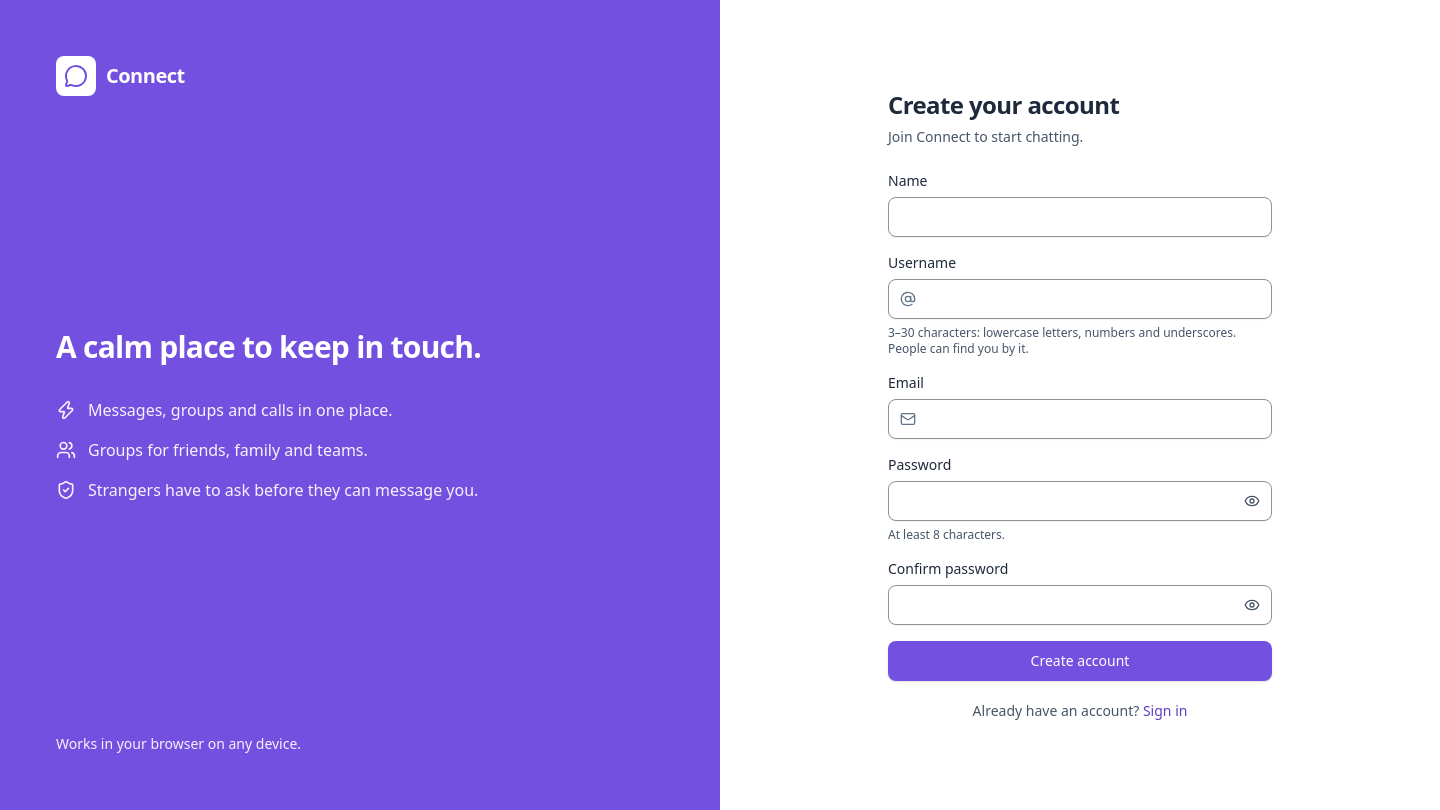
RegisterPage › validates username rules and password confirmation
Type "Ada Lovelace" into the field labelled "Name". click: (1080, 217)
box: x1=888 y1=197 x2=1272 y2=237
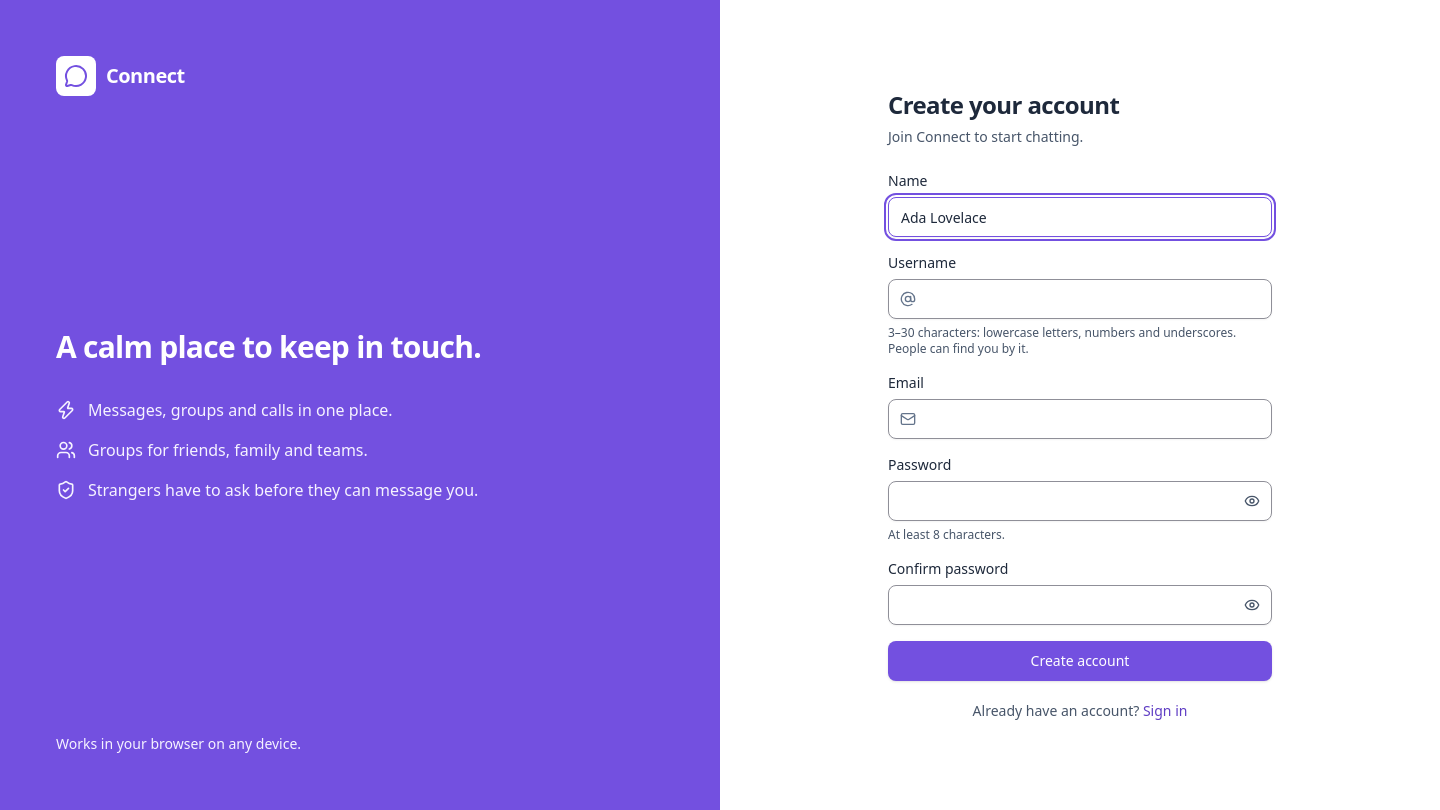
Type "Ada-L" into the field labelled "Username". click: (1080, 299)
box: x1=888 y1=279 x2=1272 y2=319
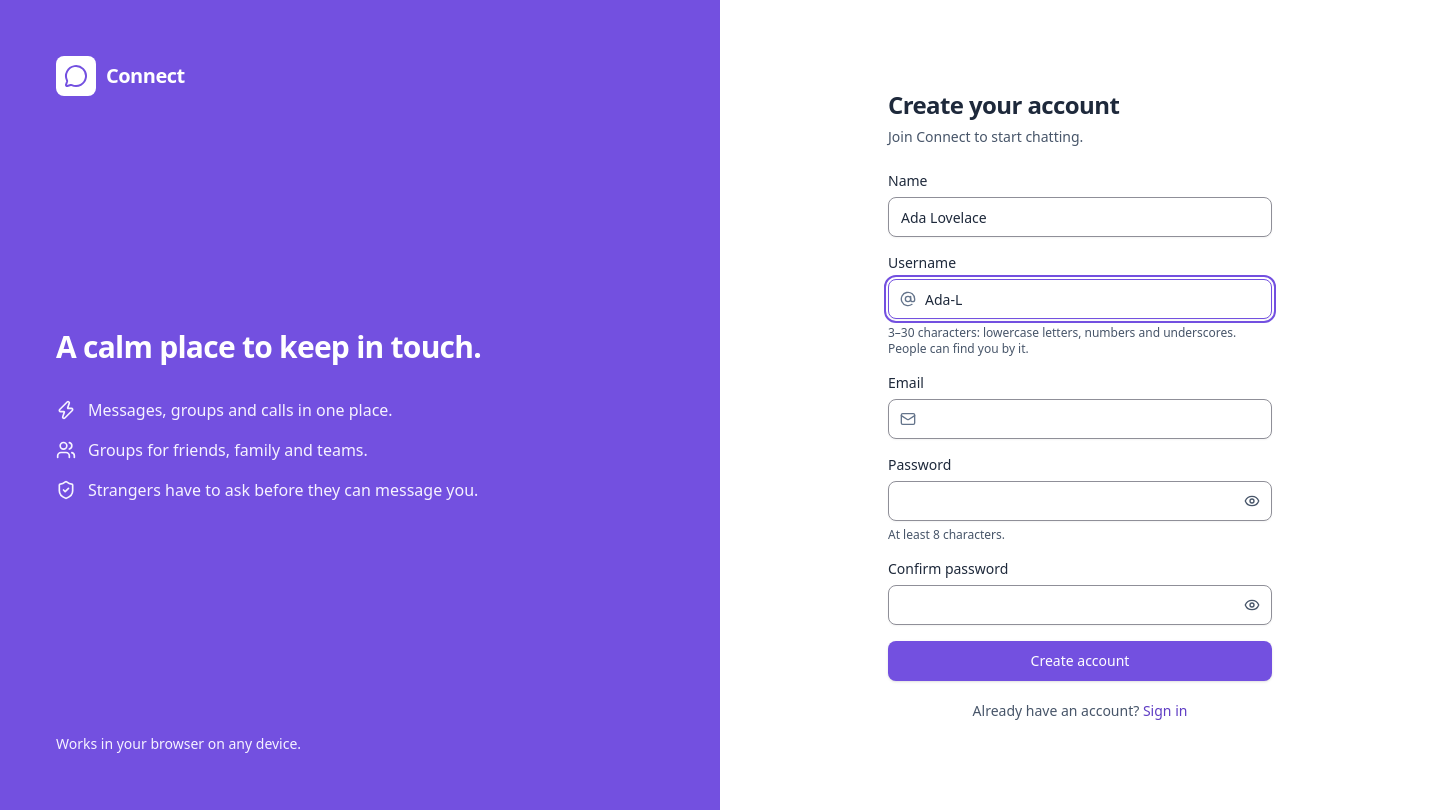
Type "ada@example.com" into the field labelled "Email". click: (1080, 419)
box: x1=888 y1=399 x2=1272 y2=439
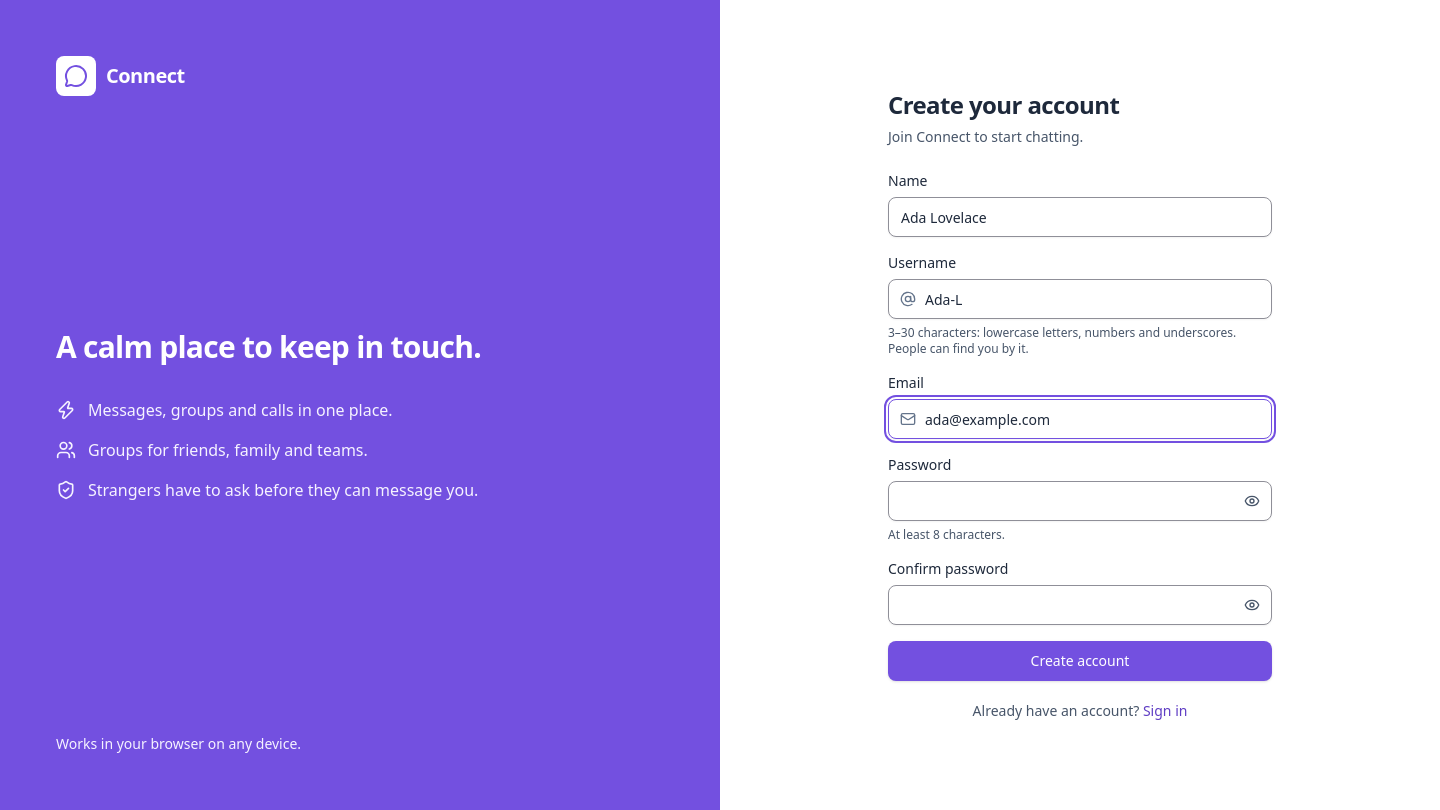
Type "long enough password" into the password field labelled "Password". click: (1080, 501)
box: x1=888 y1=481 x2=1272 y2=521
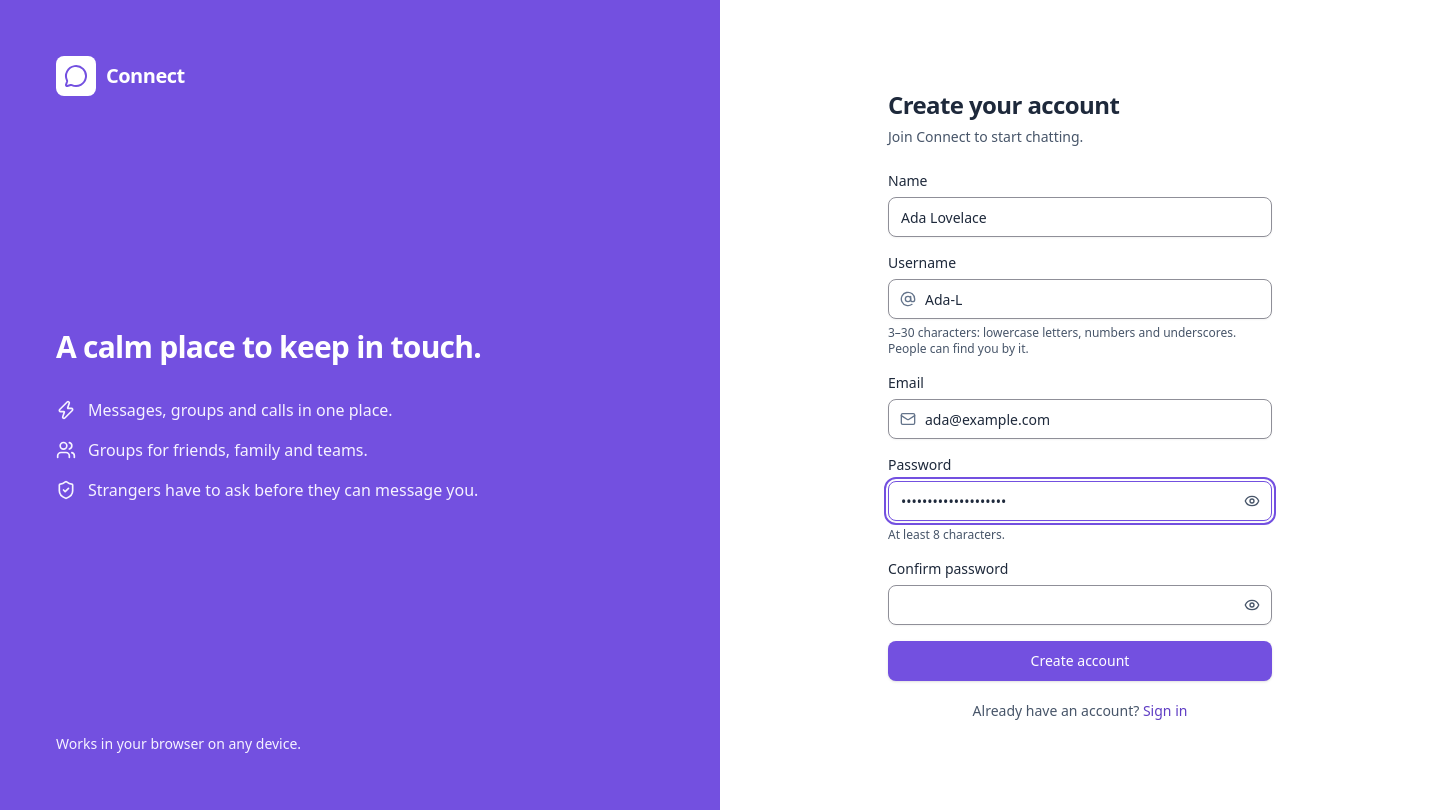
Type "different password" into the password field labelled "Confirm password". click: (1080, 605)
box: x1=888 y1=585 x2=1272 y2=625
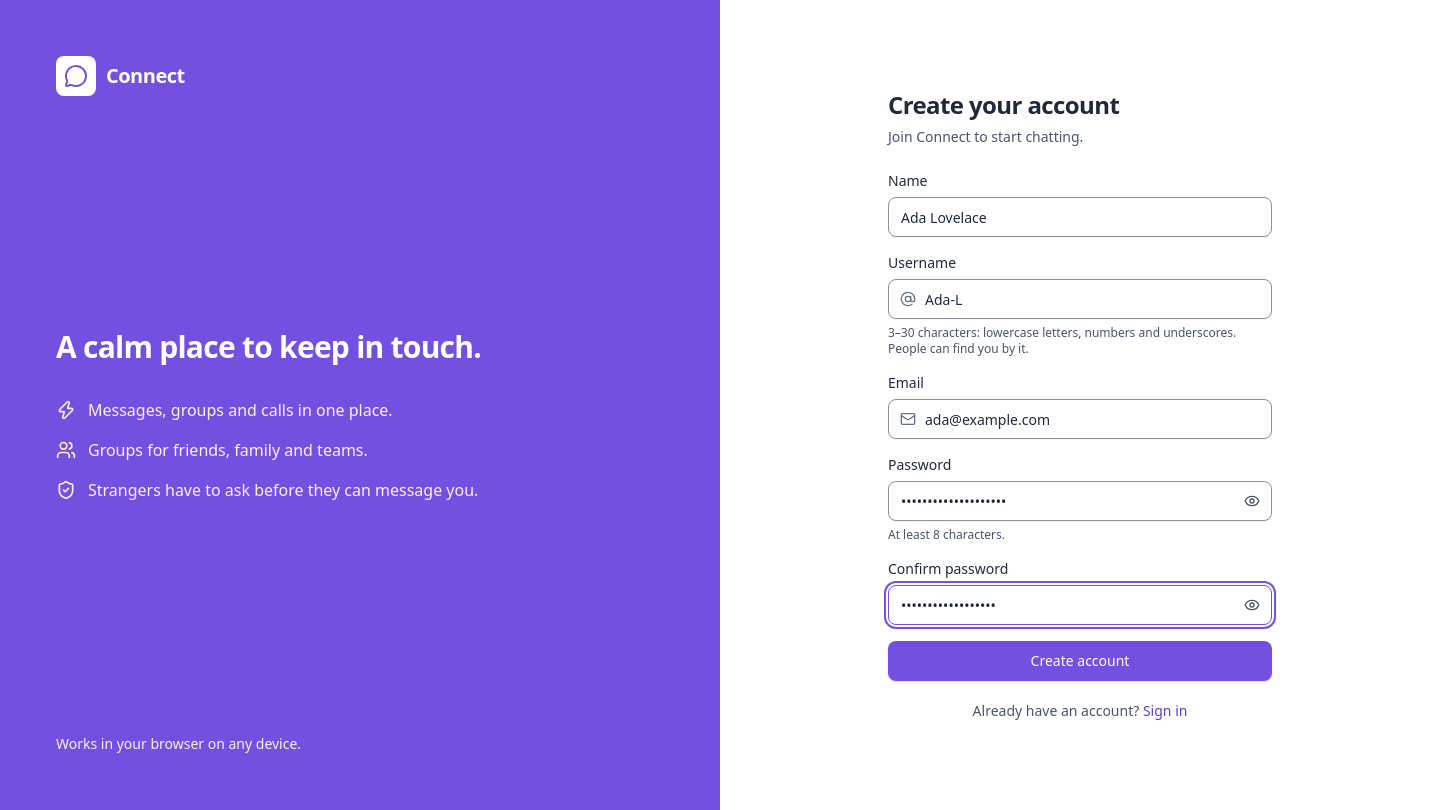
Click the button "Create account". click: (1080, 661)
box: x1=888 y1=641 x2=1272 y2=681
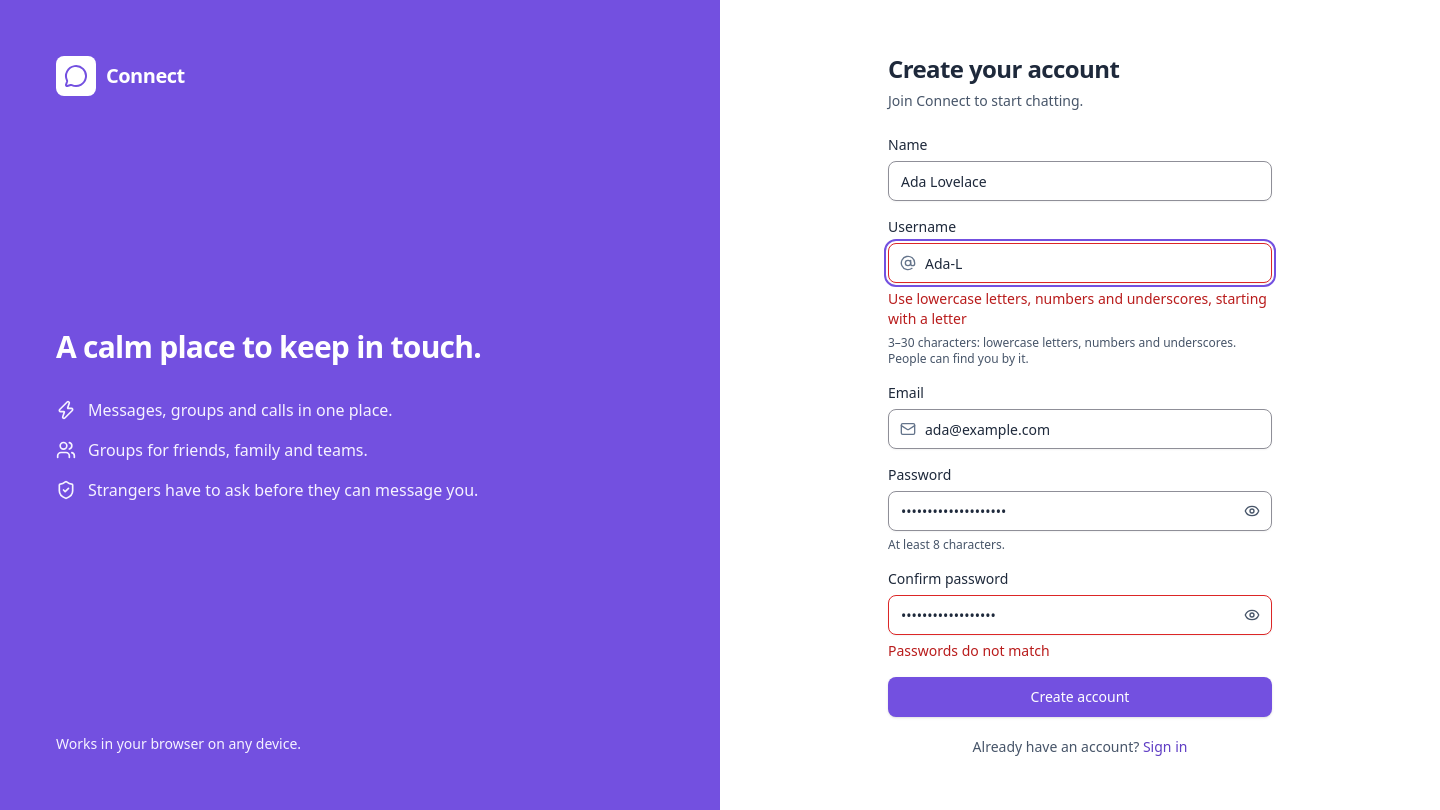
Result: the text "Passwords do not match" is shown at x1=888 y1=641 x2=1050 y2=660
